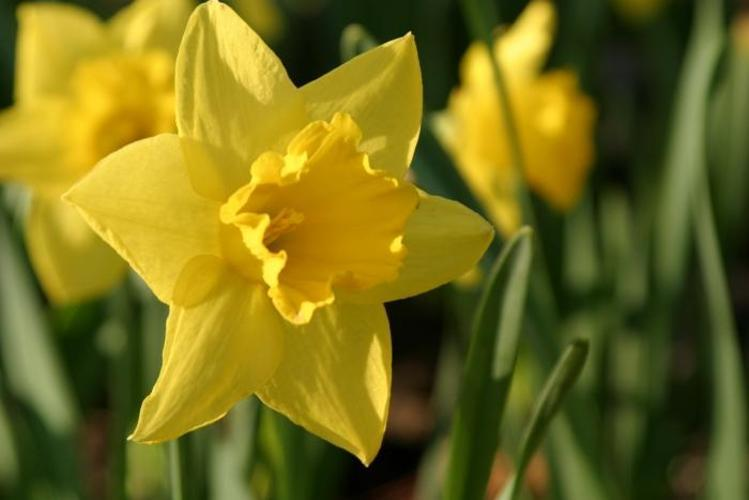flower1: (55, 3, 497, 469)
